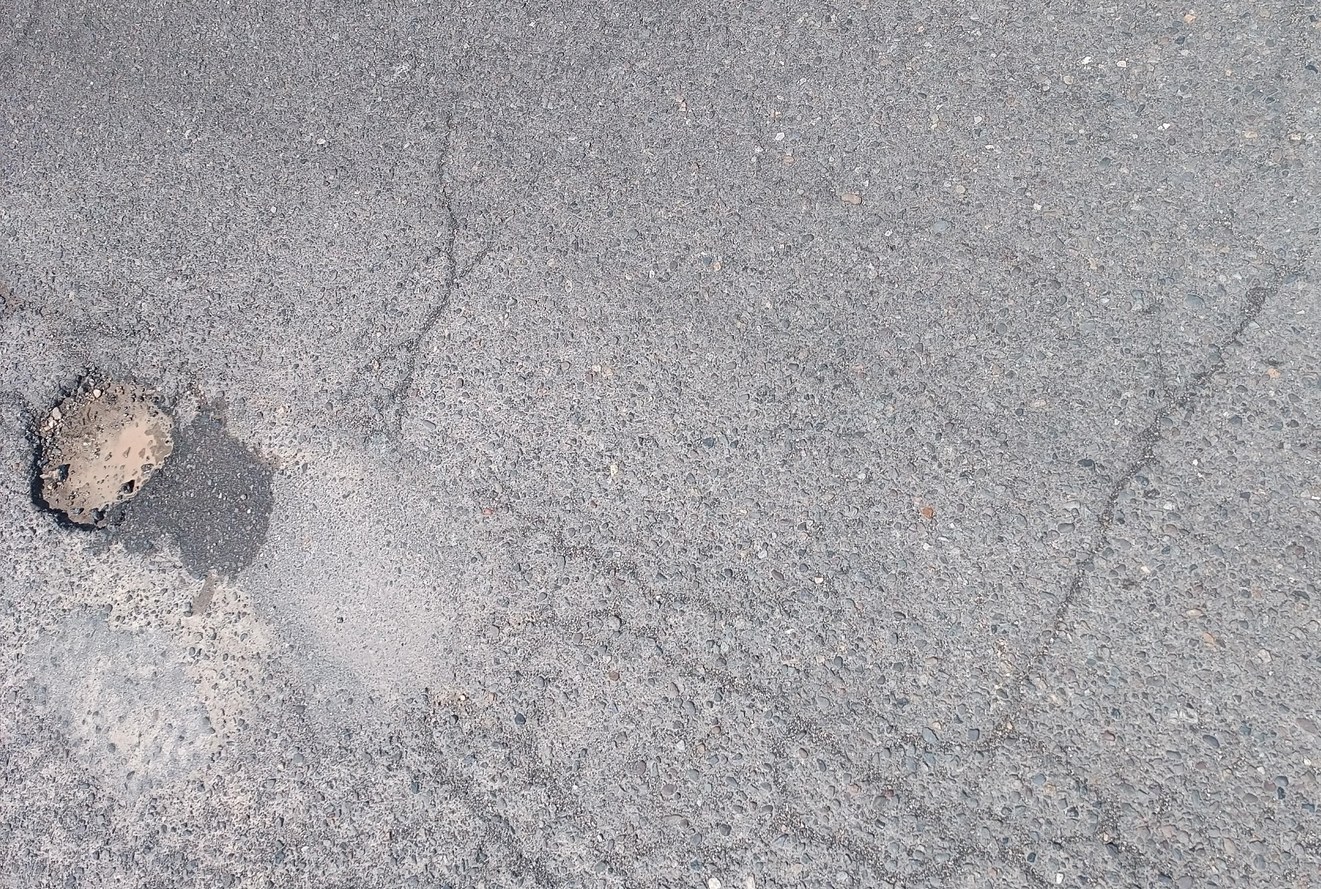BACHE: (26, 368, 179, 533)
GRIETA: (996, 247, 1314, 727), (396, 124, 462, 432)
PARCHE: (248, 482, 453, 697), (30, 617, 208, 794)
PIEL DE COCODRILO: (376, 471, 1235, 889)
